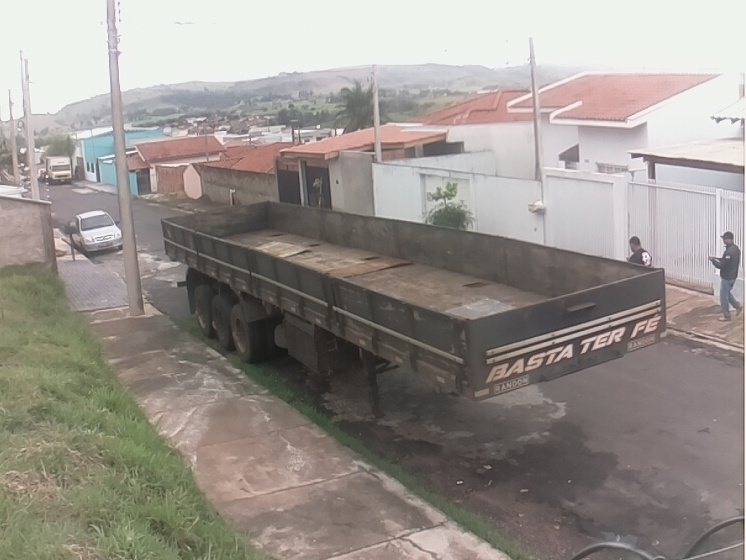person: (708, 230, 744, 323), (624, 235, 654, 270)
